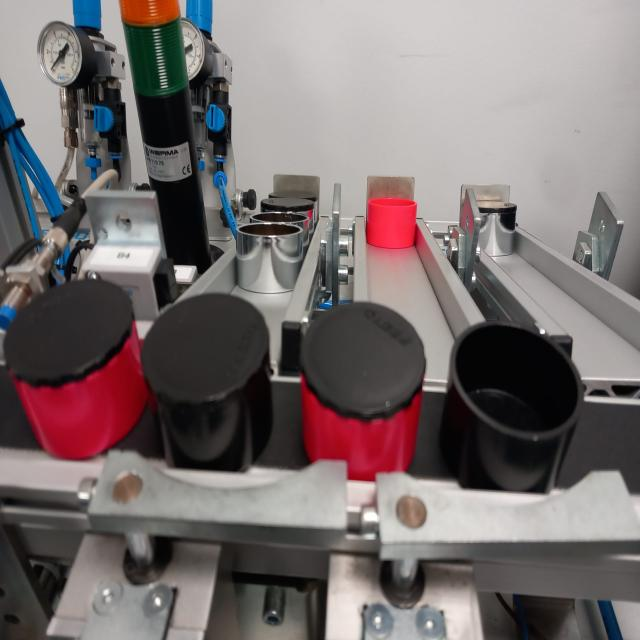NoLid: (450, 308, 584, 492), (232, 219, 309, 295), (362, 193, 429, 258)
Workpiece: (286, 307, 432, 479), (0, 280, 138, 459), (140, 289, 272, 461), (474, 196, 529, 265), (258, 196, 320, 217)
